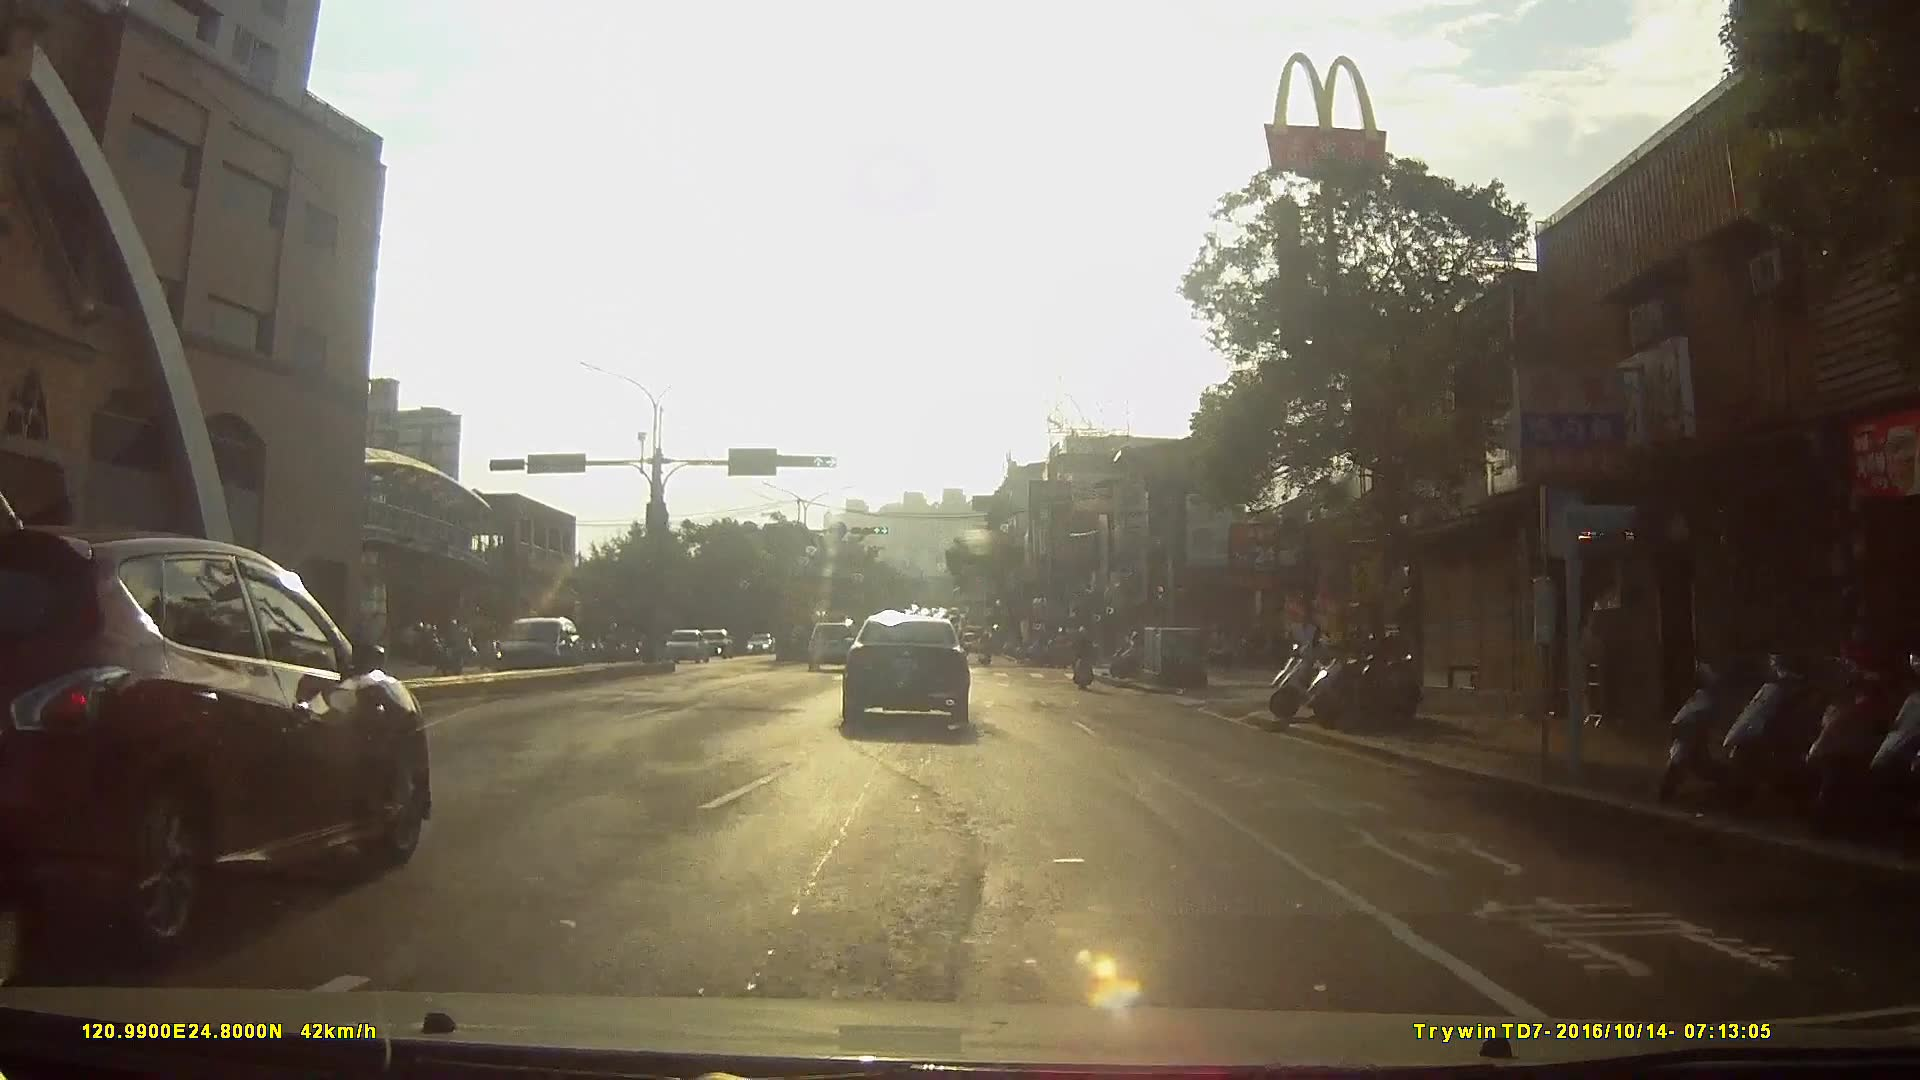rider: (1073, 623, 1099, 691), (1040, 629, 1077, 670), (976, 633, 997, 672)
vehicle: (1, 521, 445, 966), (840, 610, 988, 733), (479, 616, 585, 686), (804, 617, 861, 672), (660, 625, 708, 667), (696, 627, 738, 661)
